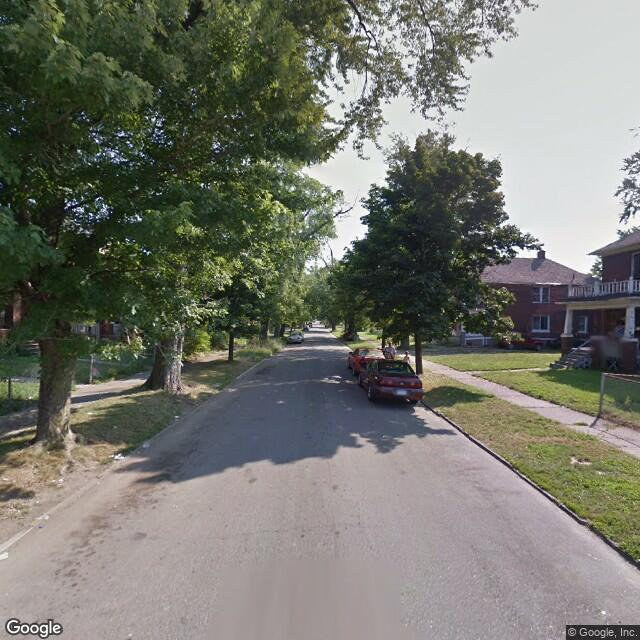litter: (44, 474, 67, 487), (109, 450, 129, 464), (108, 419, 125, 433), (167, 411, 185, 421)
